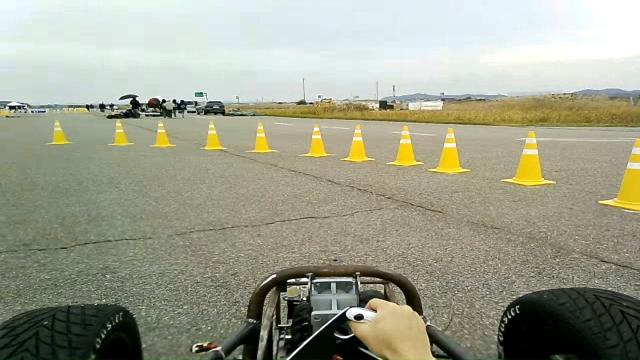yellow cone: (597, 137, 639, 212), (501, 130, 556, 186), (427, 127, 471, 173), (386, 125, 424, 167), (340, 124, 375, 162), (299, 124, 336, 158), (244, 121, 278, 153), (200, 120, 227, 151), (150, 119, 177, 147), (107, 119, 134, 146), (46, 119, 74, 145)
